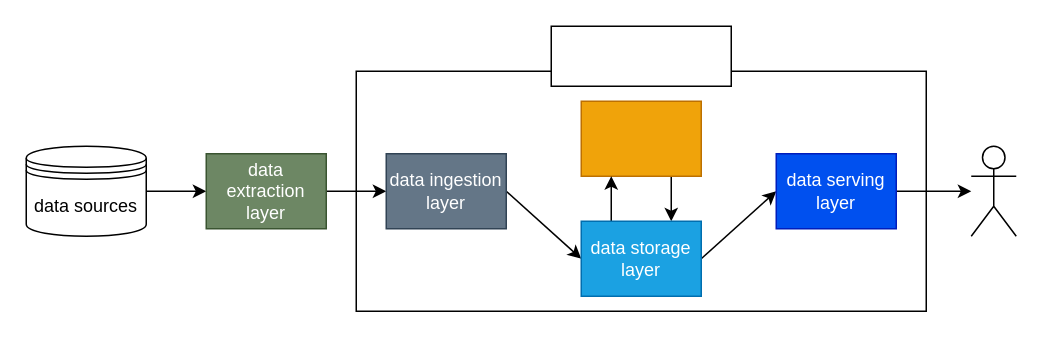
Image size: 1043x338. Some labels were removed from this diagram. The shapes that lost their labels are listed below. From the top down, each one's box as (x1, y1, x2, y2) in pixels, then its label:
(550, 25, 731, 86): Pipeline
(580, 100, 701, 176): data processing layer
(970, 145, 1016, 236): User
